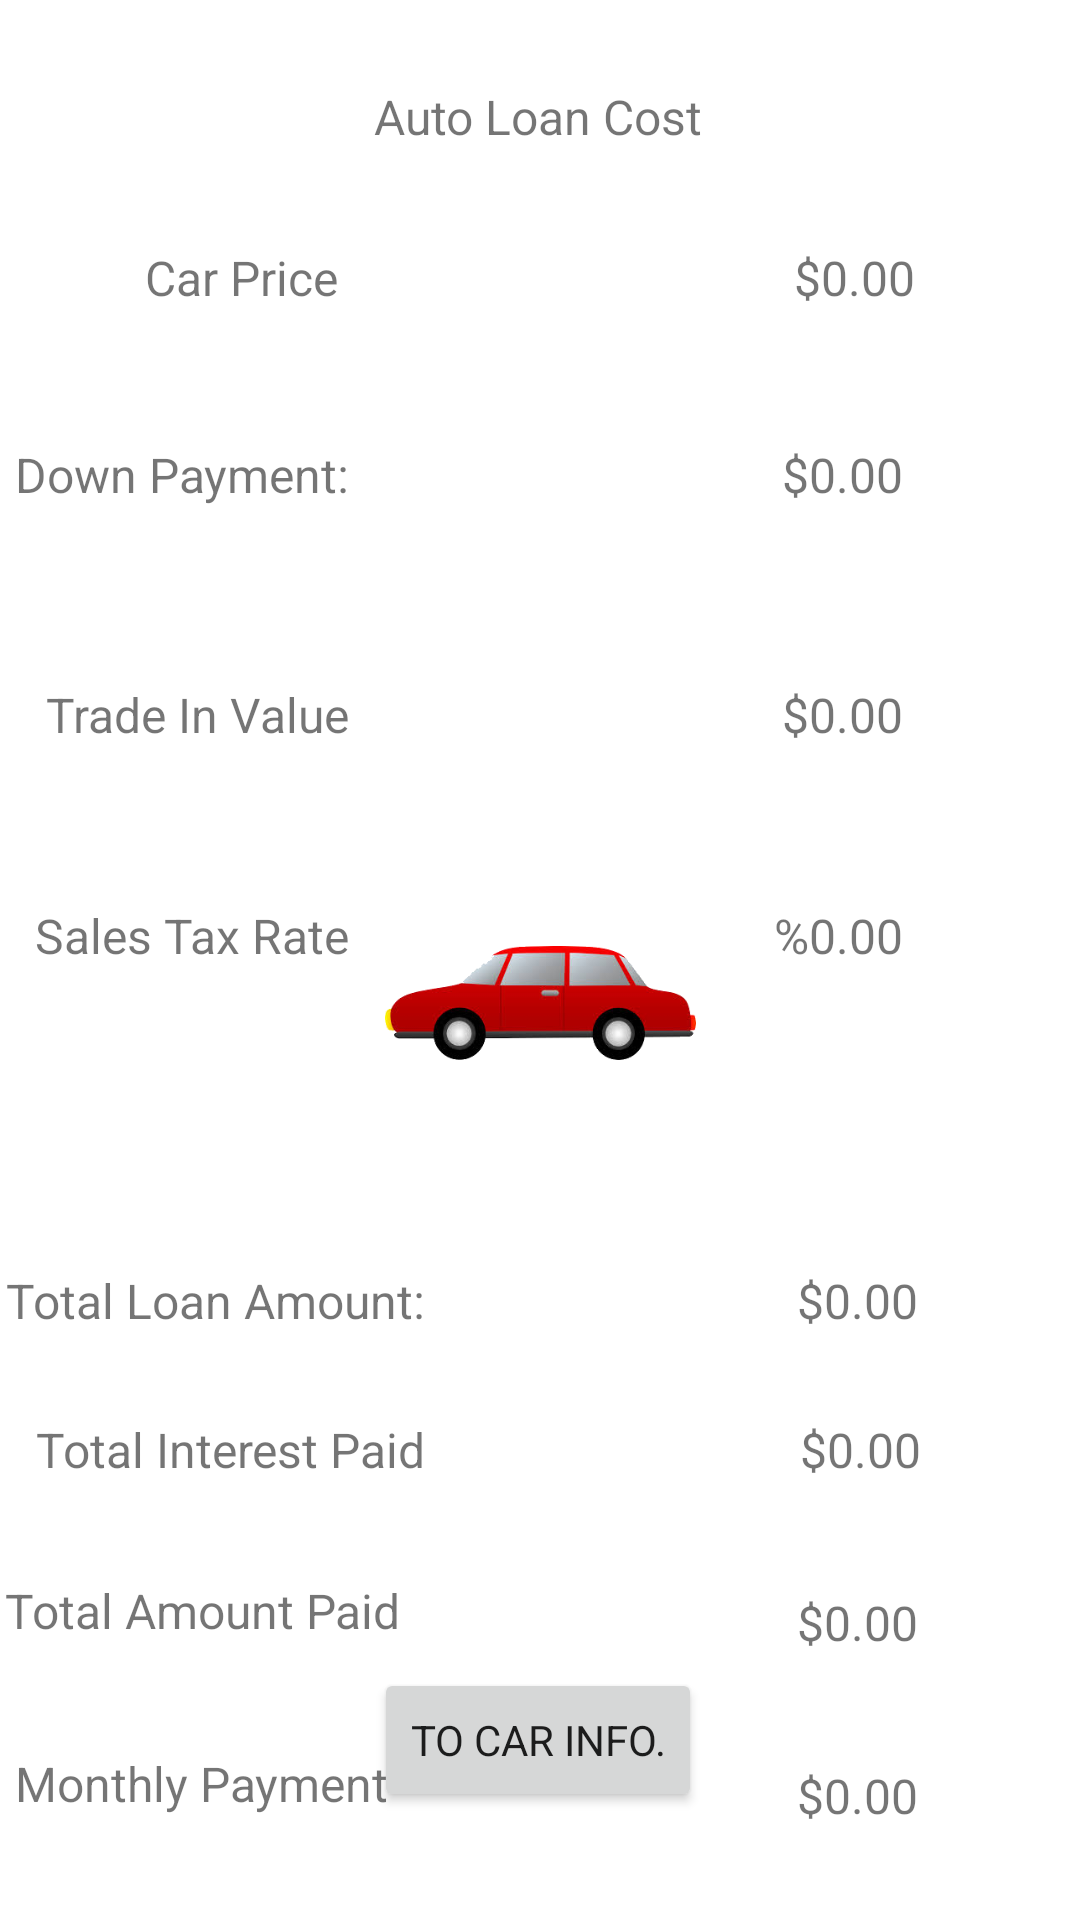

Named icons in this screenshot (1080px×1920px) and their centers, point (x, y):
carbetter: point (540, 1003)
